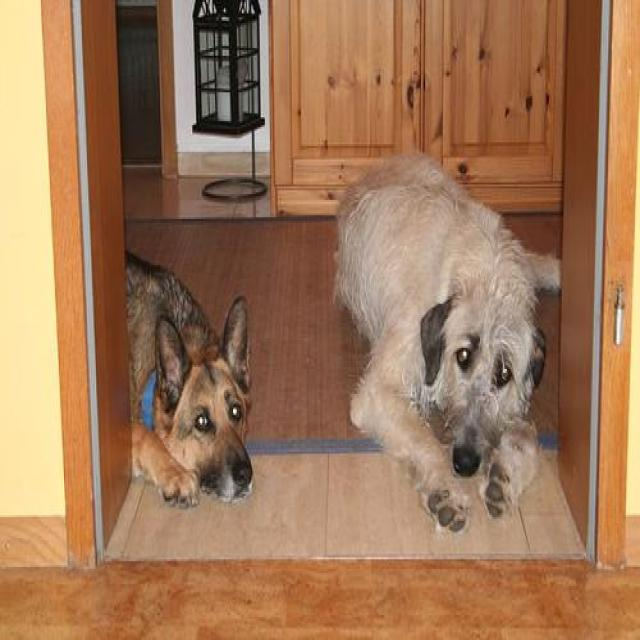irish_wolfhound: (330, 148, 547, 529)
